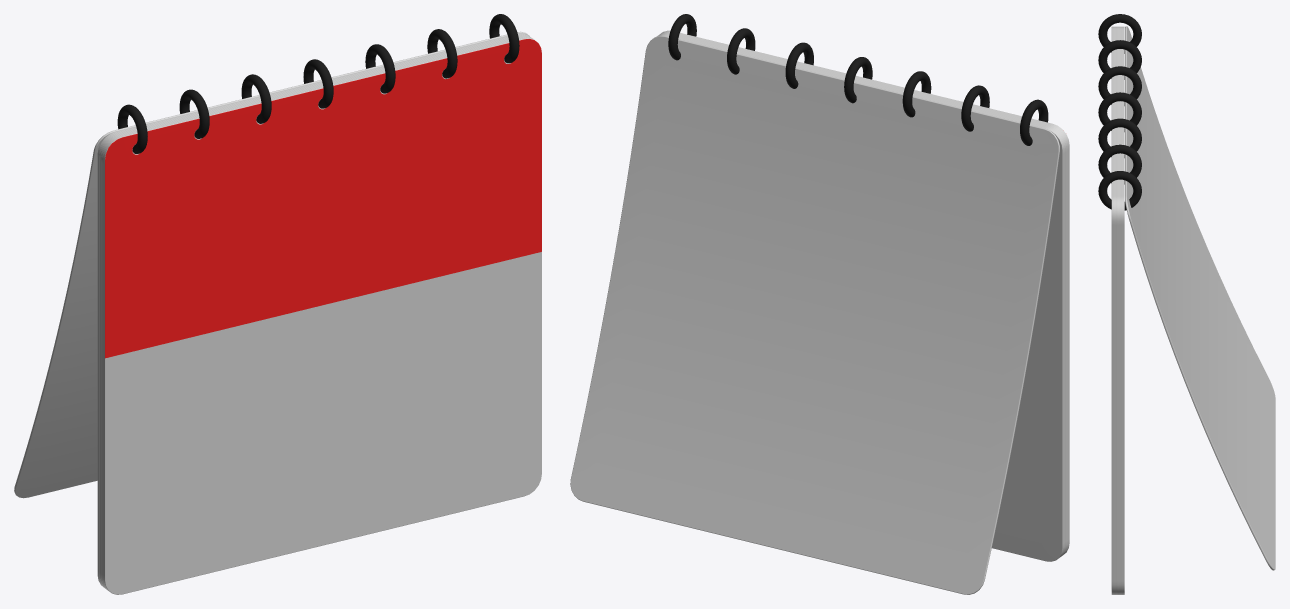
Rendered from SM_Calendar.fbx.
The picture shows the model from 3 angles, left to right: view 1: azimuth 30°, elevation 25°; view 2: azimuth 150°, elevation 25°; view 3: azimuth 270°, elevation 25°; orthographic projection. The views are drawn at different scales.
Parts seen in each view (by area): view 1: SM_Calendar; view 2: SM_Calendar; view 3: SM_Calendar.
Boxes of the visible parts, left/top/right/bottom form: SM_Calendar: left=14, top=14, right=541, bottom=594; SM_Calendar: left=570, top=14, right=1069, bottom=594; SM_Calendar: left=1098, top=14, right=1275, bottom=594.
Size of the model in its own units: 20 by 21.02 by 8.12.
